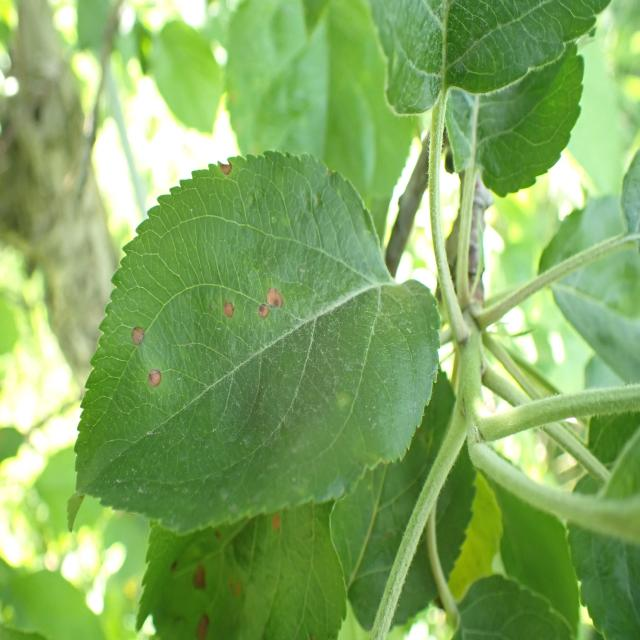frog-eye-leaf-spot: (73, 152, 443, 539), (135, 499, 349, 640)
